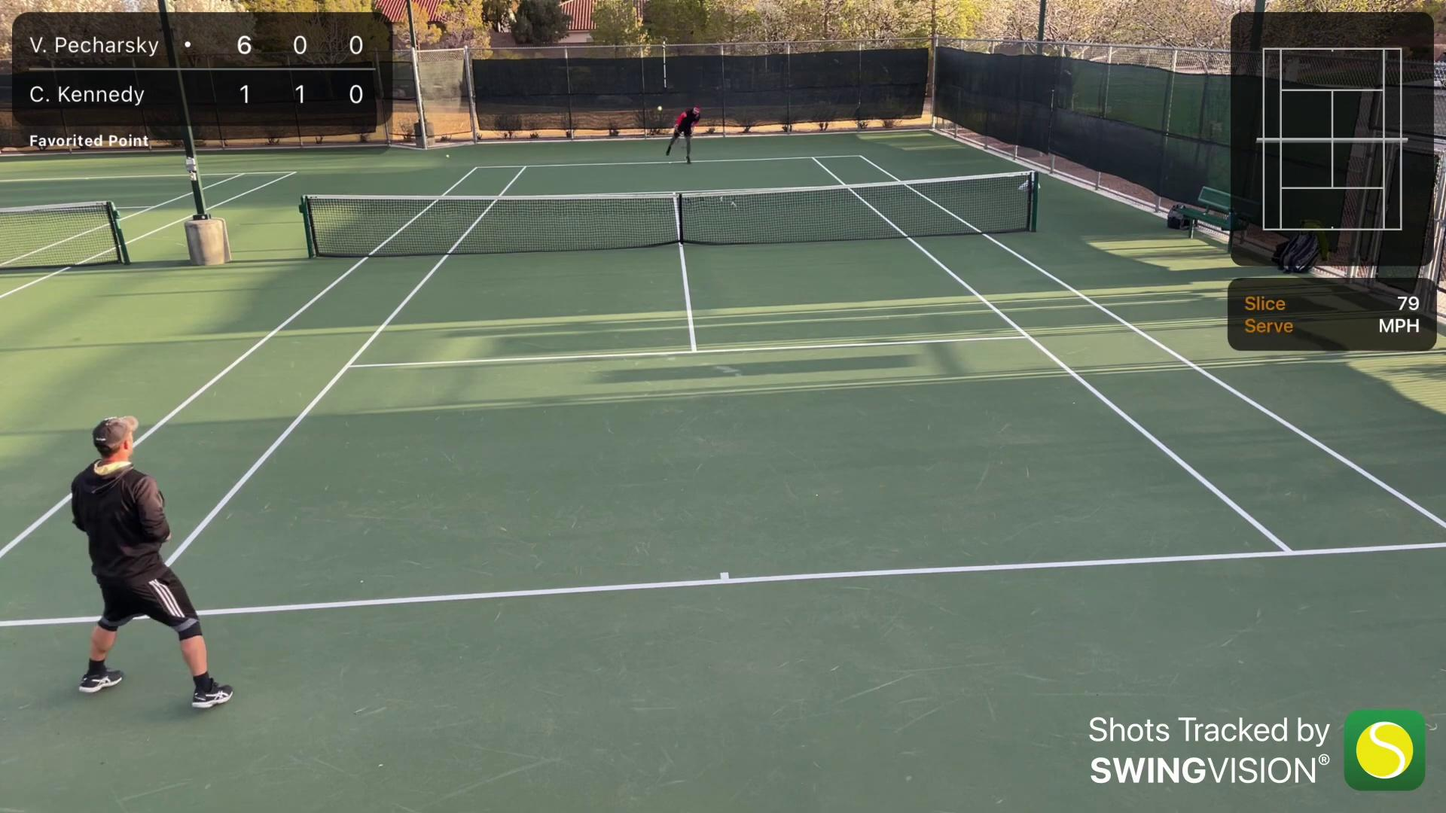ball: (655, 106, 662, 113), (444, 153, 452, 158)
